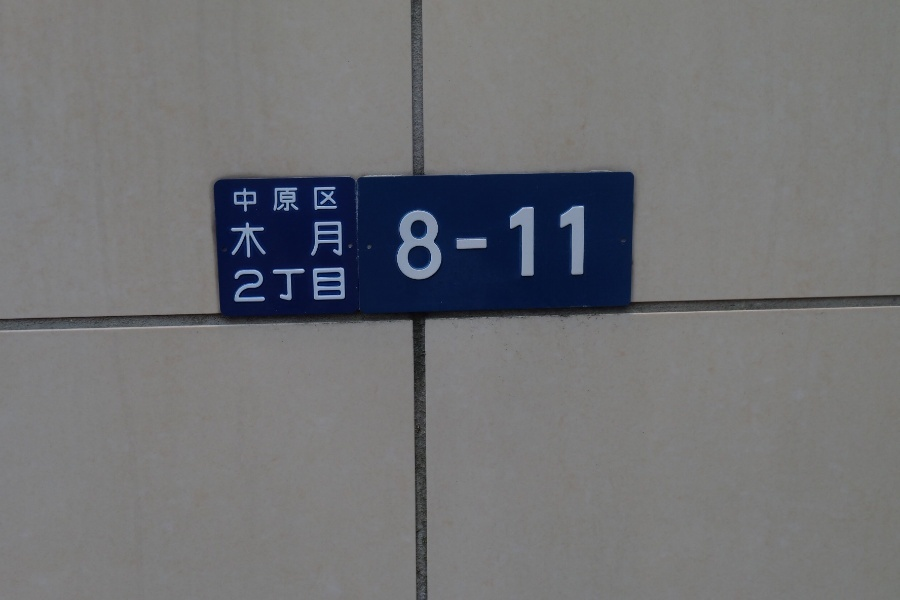text: (401, 203, 416, 283), (417, 203, 432, 283), (433, 203, 448, 283), (449, 203, 464, 283), (465, 203, 480, 283), (481, 203, 496, 283), (497, 203, 512, 283), (513, 203, 528, 283), (529, 203, 544, 283), (545, 203, 560, 283), (561, 203, 576, 283), (577, 203, 588, 283), (241, 264, 256, 309), (257, 264, 272, 309), (273, 264, 288, 309), (289, 264, 304, 309), (305, 264, 320, 309), (321, 264, 336, 309), (241, 220, 256, 264), (257, 220, 272, 264), (273, 220, 288, 264), (289, 220, 304, 264), (305, 220, 320, 264), (321, 220, 336, 264), (241, 183, 256, 216), (257, 183, 272, 216), (273, 183, 288, 216), (289, 183, 304, 216), (305, 183, 320, 216), (321, 183, 336, 216), (337, 264, 348, 309), (231, 220, 240, 264), (337, 220, 345, 264), (232, 183, 240, 216), (235, 264, 240, 309), (398, 203, 400, 283), (337, 183, 340, 216)
